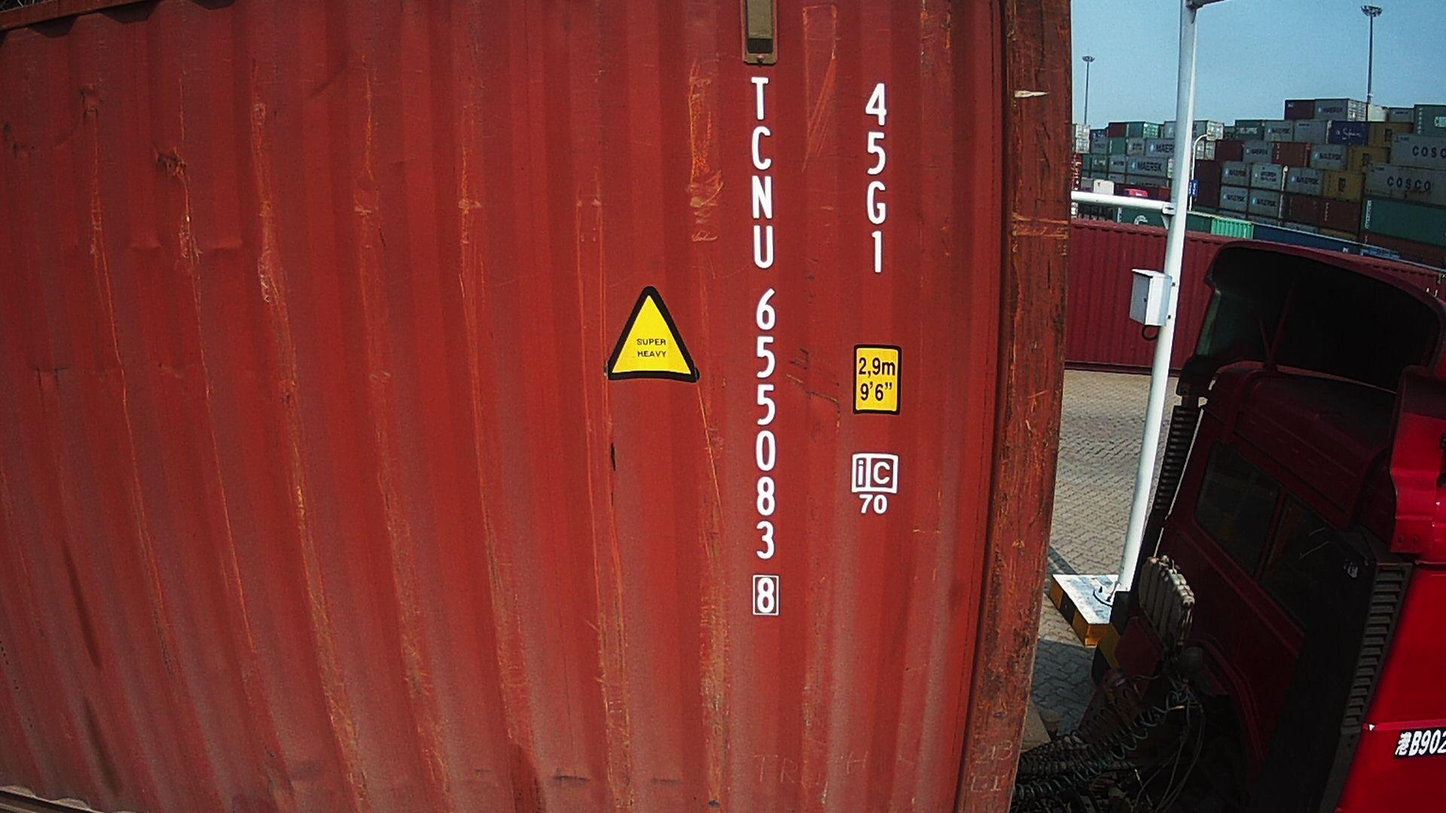container-numbers: (745, 72, 787, 622), (859, 79, 895, 279)
